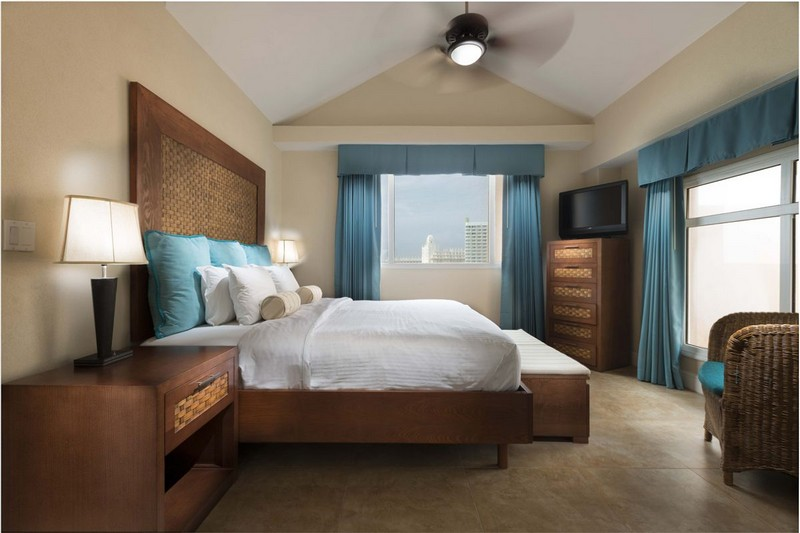bed: (138, 218, 534, 465)
chair: (699, 311, 800, 488)
lamp: (57, 195, 151, 371)
stool: (1, 345, 240, 530)
